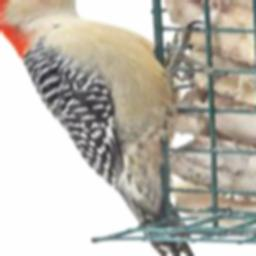Woodpecker: (0, 0, 205, 256)
